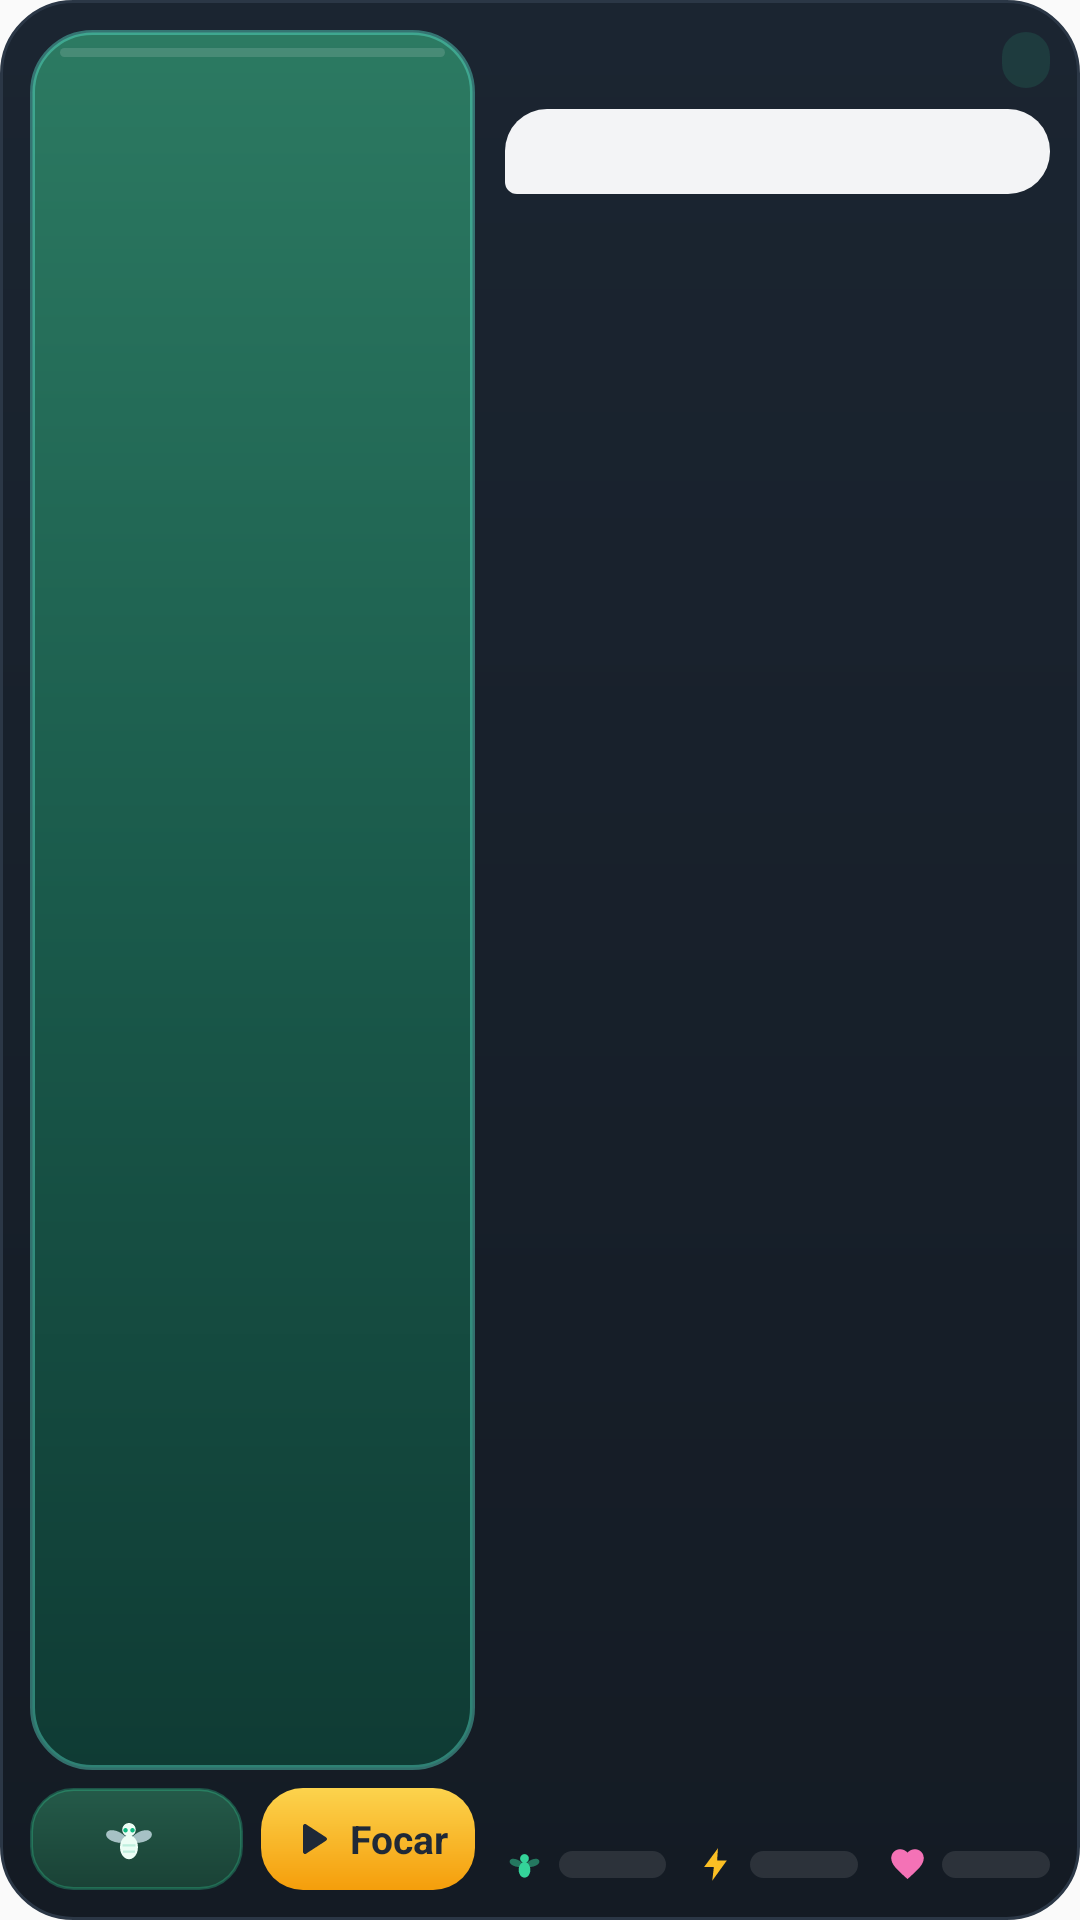

Icon click points for this 1080px x 1920px phone screenshot, format [x,y]:
bar energy: [715,1864]
bar mood: [907,1864]
widget fly: [129,1841]
widget play: [311,1834]
